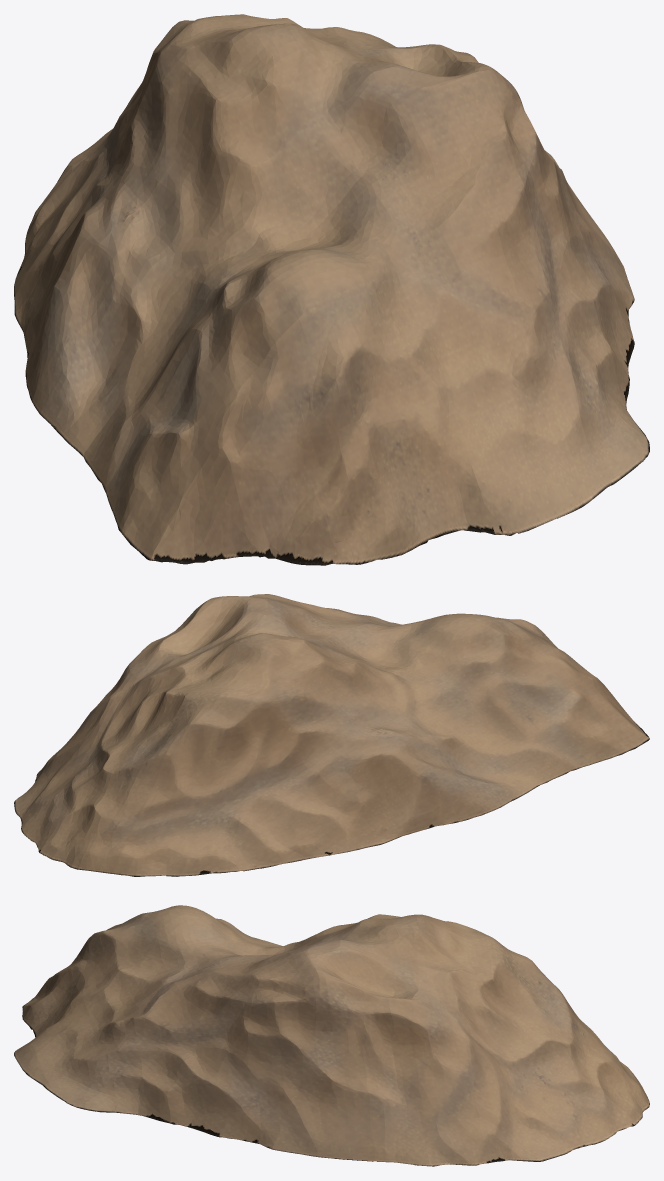
The picture shows the model from 3 angles, top to bottom: view 1: azimuth 30°, elevation 25°; view 2: azimuth 150°, elevation 25°; view 3: azimuth 270°, elevation 25°; orthographic projection. The views are drawn at different scales.
Visible parts, largest first — view 1: world; view 2: world; view 3: world.
Part boxes in pixels (<box>): world: <box>14,14,649,565</box>; world: <box>14,594,649,876</box>; world: <box>14,905,649,1166</box>.
Size of the model in its own units: 0.8602 by 0.3056 by 1.12.
Materials: 1 (1 with a texture image).
